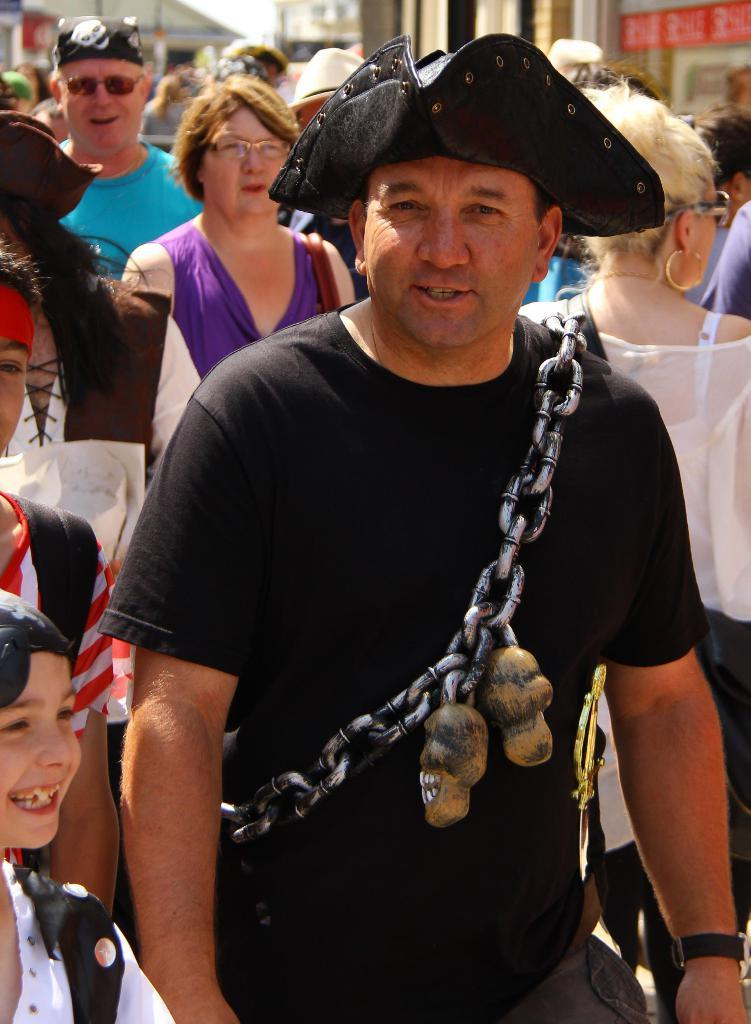Hat: (266, 28, 665, 240), (288, 50, 367, 110), (548, 34, 598, 85)
